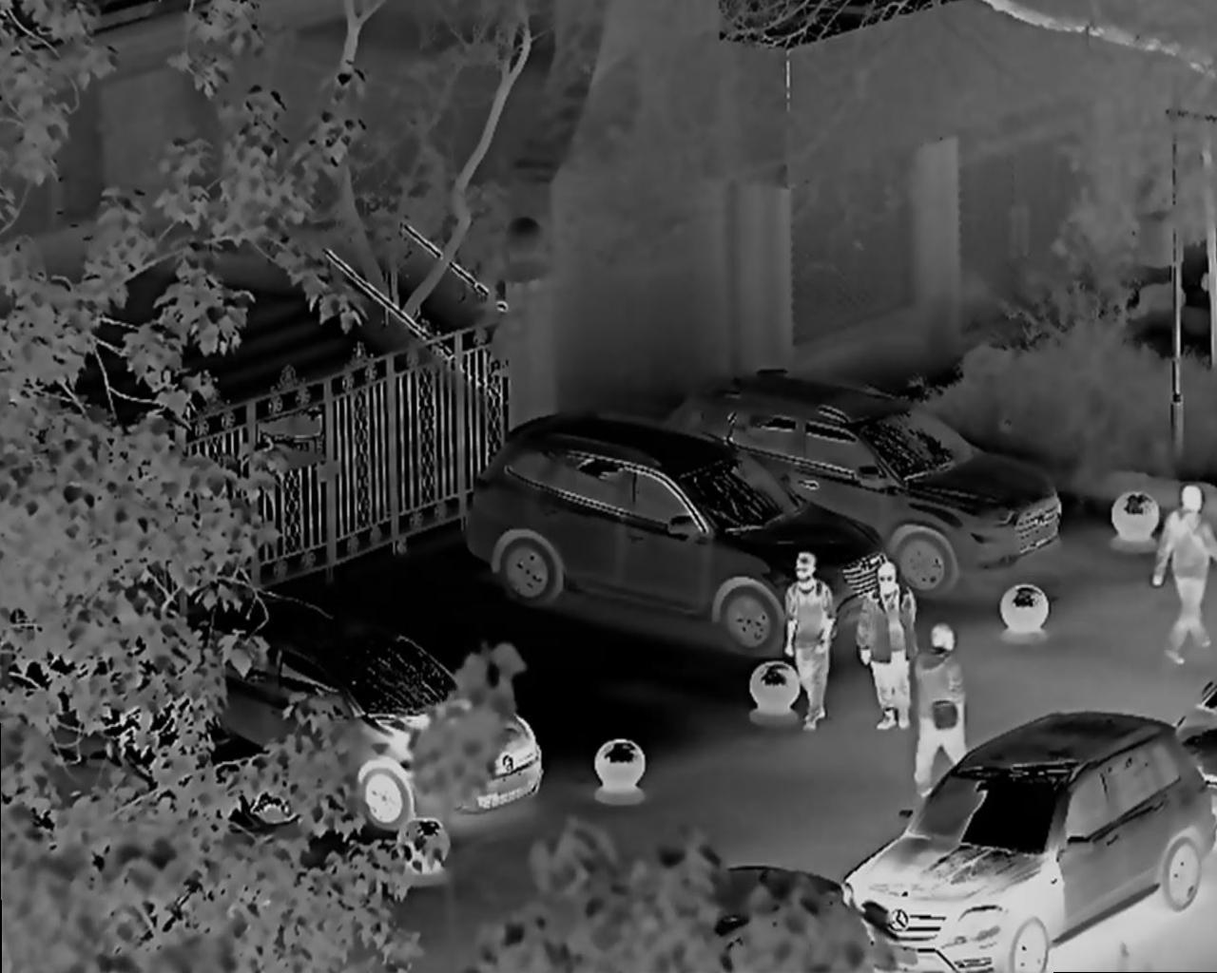person: (1141, 483, 1217, 649), (782, 546, 841, 734), (913, 621, 977, 794), (857, 562, 918, 739)
